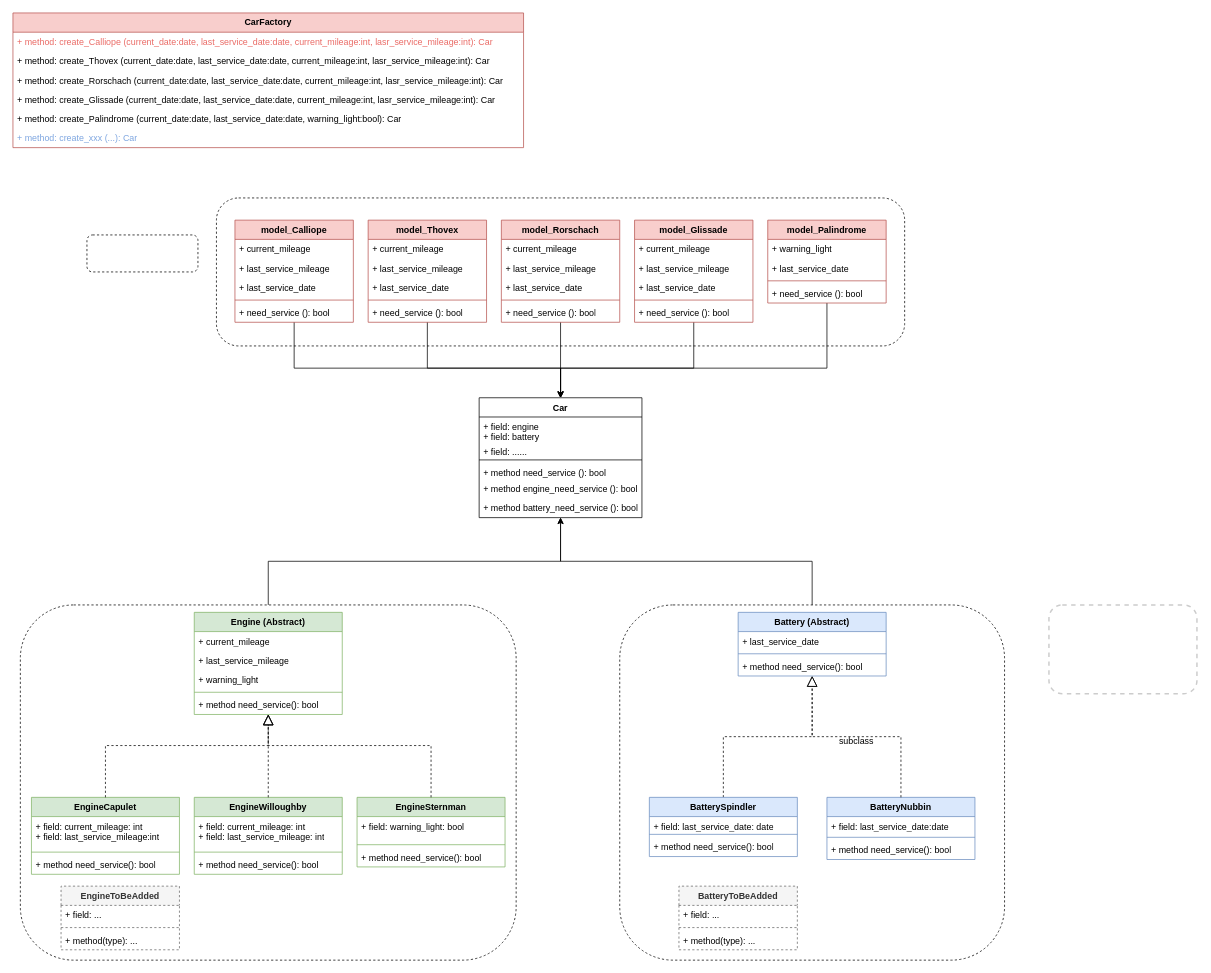
This 1211x973 diagram has some shape labels left out. Here are the shapes that lost their labels. From the top down, the centre of each, then its label:
At point 142,253: "change car attributes by accessing CarFactory's corresponding method".
At point 1122,649: "add parts independently as needed".
